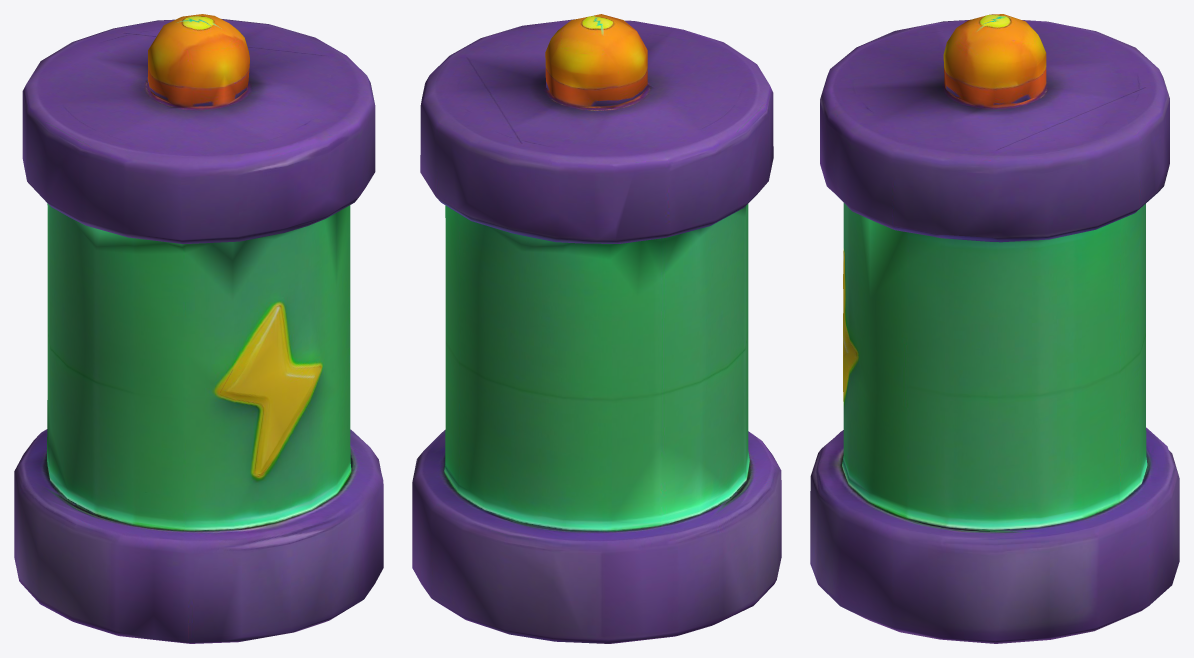
File: PowerCapsule.fbx
3 renders of one model, left to right at view 1: azimuth 30°, elevation 25°; view 2: azimuth 150°, elevation 25°; view 3: azimuth 270°, elevation 25°, orthographic.
Visible parts, largest first — view 1: Mesh1; view 2: Mesh1; view 3: Mesh1.
Boxes of the visible parts, x1,y1,x2,y2 form: Mesh1: (14,14,383,643); Mesh1: (412,14,781,643); Mesh1: (810,14,1179,643).
Bounding box in the file's own units: 122 × 200 × 122.
Materials: 1 (1 with a texture image).
